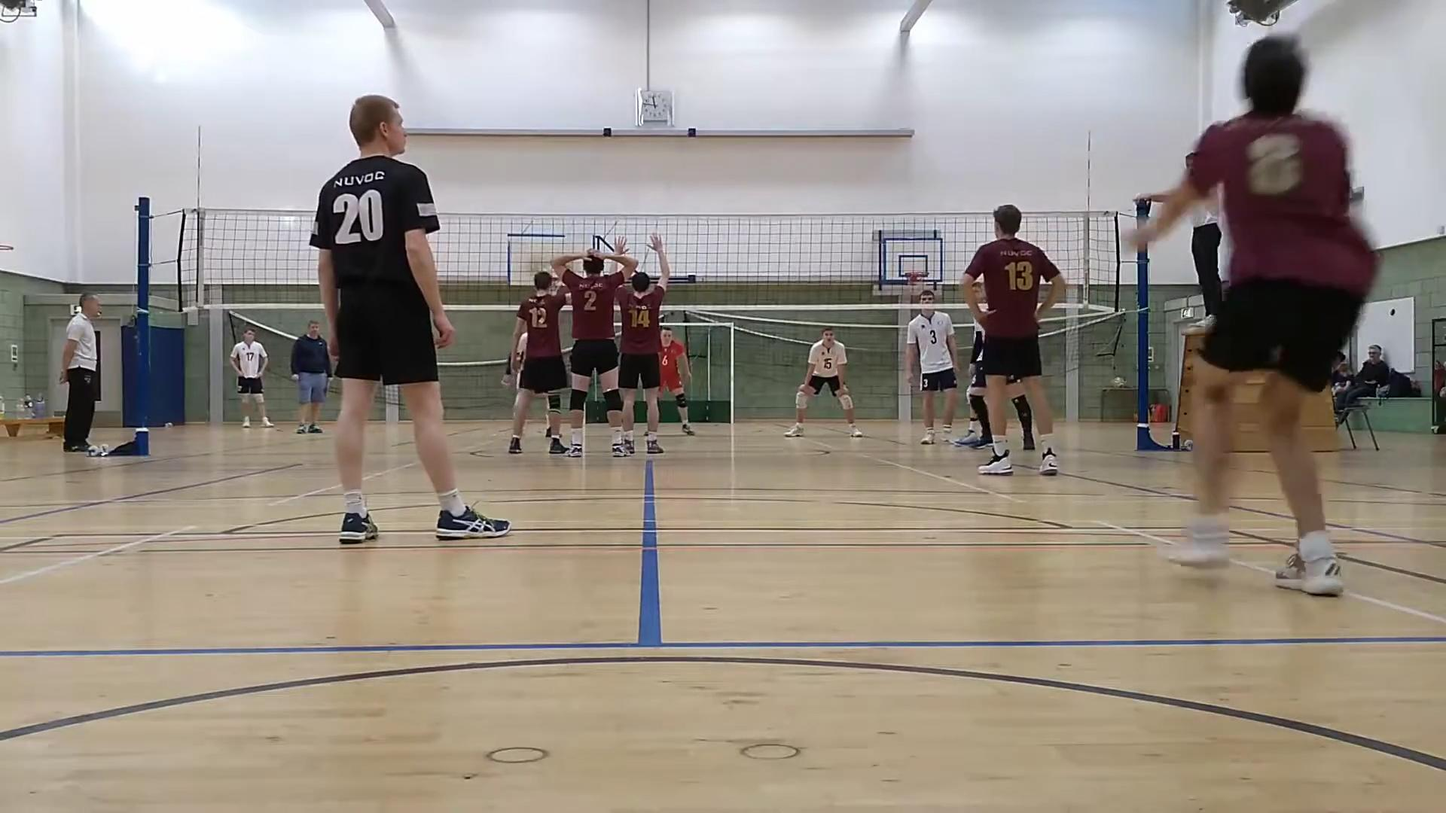Player: (310, 96, 510, 544), (964, 205, 1066, 475), (551, 237, 637, 457), (618, 235, 670, 454), (508, 271, 567, 453), (785, 328, 862, 437), (905, 290, 958, 444), (956, 325, 992, 447), (658, 327, 694, 435)
Serve: (1111, 37, 1382, 600)
